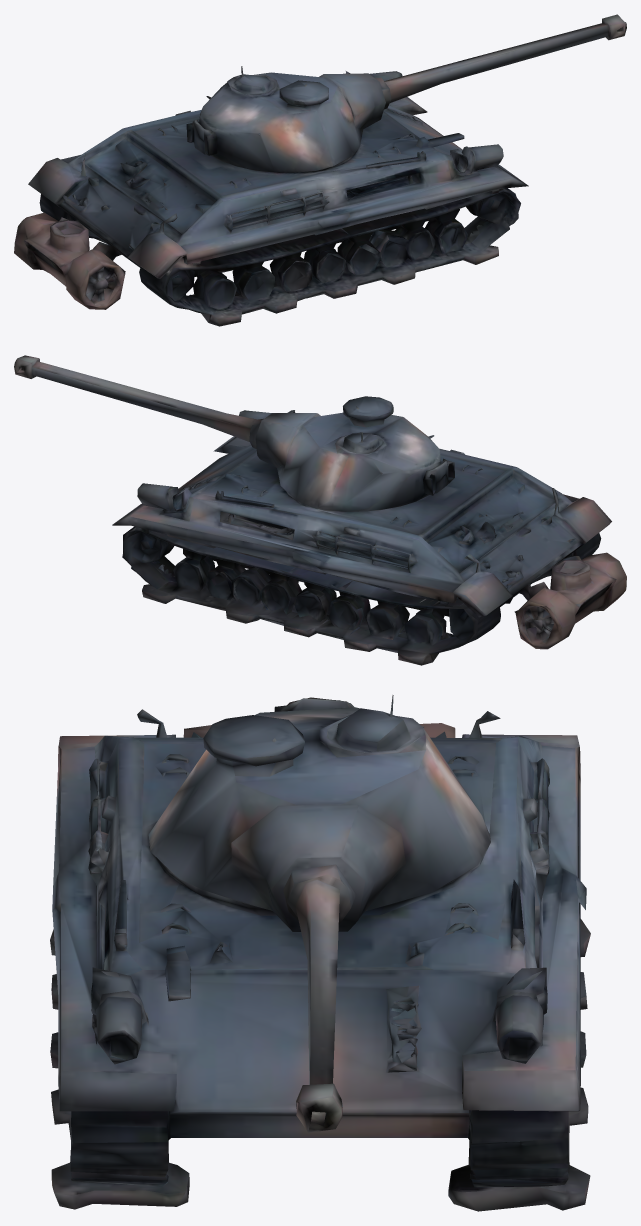
The model's file is prop_wreck.glb.
3 renders of one model, top to bottom at view 1: azimuth 30°, elevation 25°; view 2: azimuth 150°, elevation 25°; view 3: azimuth 270°, elevation 25°, orthographic. The views are drawn at different scales.
Parts seen in each view (by area): view 1: node_0; view 2: node_0; view 3: node_0.
Part boxes in pixels (left/top/right/bottom): node_0: left=14, top=14, right=626, bottom=326; node_0: left=14, top=355, right=626, bottom=665; node_0: left=50, top=695, right=590, bottom=1211.
Bounding box in the file's own units: 1.17 × 0.3328 × 0.4723.
Materials: 1 (1 with a texture image).
